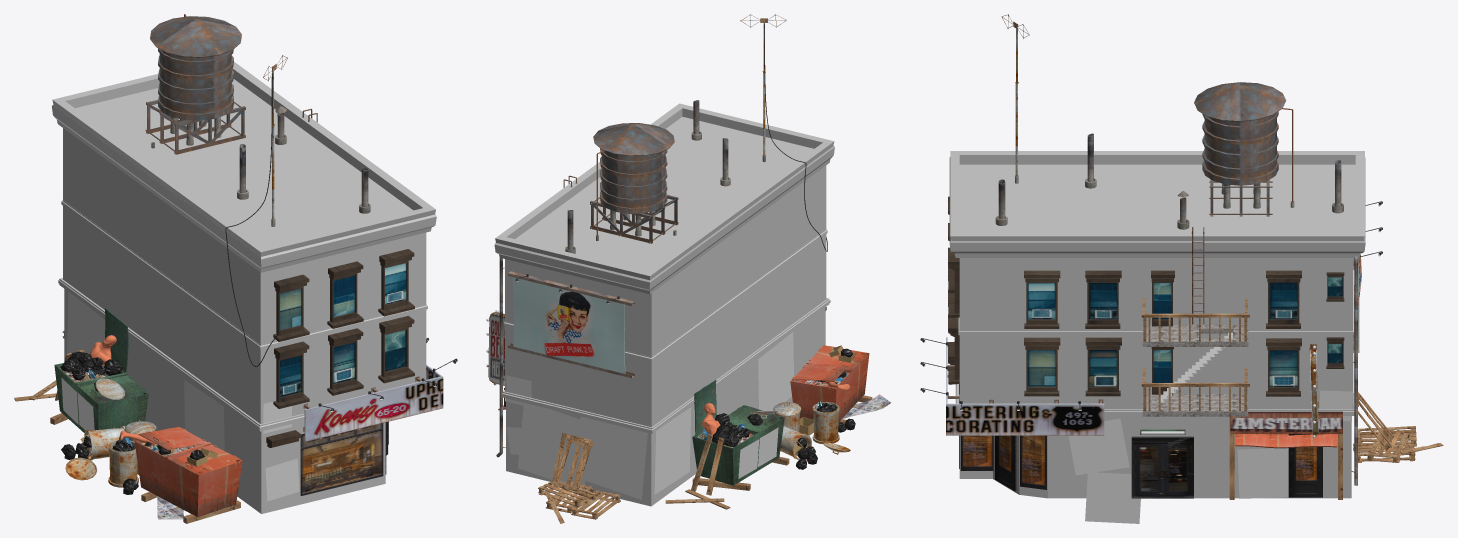
Rendered from home3.fbx.
3 renders of one model, left to right at view 1: azimuth 30°, elevation 25°; view 2: azimuth 150°, elevation 25°; view 3: azimuth 270°, elevation 25°, orthographic. The views are drawn at different scales.
Parts seen in each view (by area): view 1: 1home_copy, 7vodokachka_copy, 10okna_rama_copy, 27trash_2_copy, 9okna_steklo_copy, 20viveska_mag_copy, 11vitrina_1_copy, 26trash_1_copy, 32vedro_copy, 31trash_copy, graf_11, graf_8 (+7 smaller); view 2: 1home_copy, 15viveska_xyz_copy, 7vodokachka_copy, 34doski_copy, graf_2, 27trash_2_copy, 26trash_1_copy, graf_10, graf_8, 32vedro_copy, 6truba_copy, graf_11 (+9 smaller); view 3: 1home_copy, 10okna_rama_copy, 7vodokachka_copy, 9okna_steklo_copy, 20viveska_mag_copy, 14door_home_copy, 5balkon_2_copy, 4balkon_1_copy, 6truba_copy, graf_9, 34doski_copy, 19viveska_bar_copy (+11 smaller).
Boxes of the visible parts, x1=… form: 1home_copy: x1=52, y1=62, x2=436, y2=513; 7vodokachka_copy: x1=145, y1=16, x2=245, y2=154; 10okna_rama_copy: x1=266, y1=249, x2=414, y2=447; 27trash_2_copy: x1=135, y1=427, x2=242, y2=517; 9okna_steklo_copy: x1=280, y1=263, x2=406, y2=396; 20viveska_mag_copy: x1=304, y1=364, x2=443, y2=441; 11vitrina_1_copy: x1=300, y1=423, x2=383, y2=495; 26trash_1_copy: x1=54, y1=308, x2=148, y2=432; 32vedro_copy: x1=65, y1=378, x2=156, y2=487; 31trash_copy: x1=60, y1=351, x2=204, y2=494; graf_11: x1=184, y1=380, x2=224, y2=450; graf_8: x1=67, y1=292, x2=105, y2=354; 1home_copy: x1=494, y1=103, x2=834, y2=506; 15viveska_xyz_copy: x1=512, y1=277, x2=625, y2=373; 7vodokachka_copy: x1=590, y1=123, x2=678, y2=243; 34doski_copy: x1=538, y1=395, x2=872, y2=523; graf_2: x1=575, y1=416, x2=647, y2=499; 27trash_2_copy: x1=790, y1=345, x2=869, y2=421; 26trash_1_copy: x1=692, y1=380, x2=784, y2=485; graf_10: x1=518, y1=404, x2=585, y2=489; graf_8: x1=654, y1=407, x2=691, y2=494; 32vedro_copy: x1=750, y1=402, x2=850, y2=459; 6truba_copy: x1=496, y1=100, x2=765, y2=457; graf_11: x1=758, y1=332, x2=793, y2=410; 1home_copy: x1=949, y1=151, x2=1365, y2=498; 10okna_rama_copy: x1=948, y1=196, x2=1344, y2=396; 7vodokachka_copy: x1=1194, y1=82, x2=1286, y2=216; 9okna_steklo_copy: x1=1028, y1=277, x2=1342, y2=386; 20viveska_mag_copy: x1=946, y1=337, x2=1104, y2=435; 14door_home_copy: x1=1131, y1=436, x2=1193, y2=498; 5balkon_2_copy: x1=1141, y1=367, x2=1249, y2=416; 4balkon_1_copy: x1=1141, y1=298, x2=1249, y2=346; 6truba_copy: x1=995, y1=133, x2=1357, y2=485; graf_9: x1=1085, y1=472, x2=1140, y2=523; 34doski_copy: x1=1353, y1=392, x2=1443, y2=462; 19viveska_bar_copy: x1=1230, y1=411, x2=1342, y2=433.
Bounding box in the file's own units: 458 × 622 × 662.
